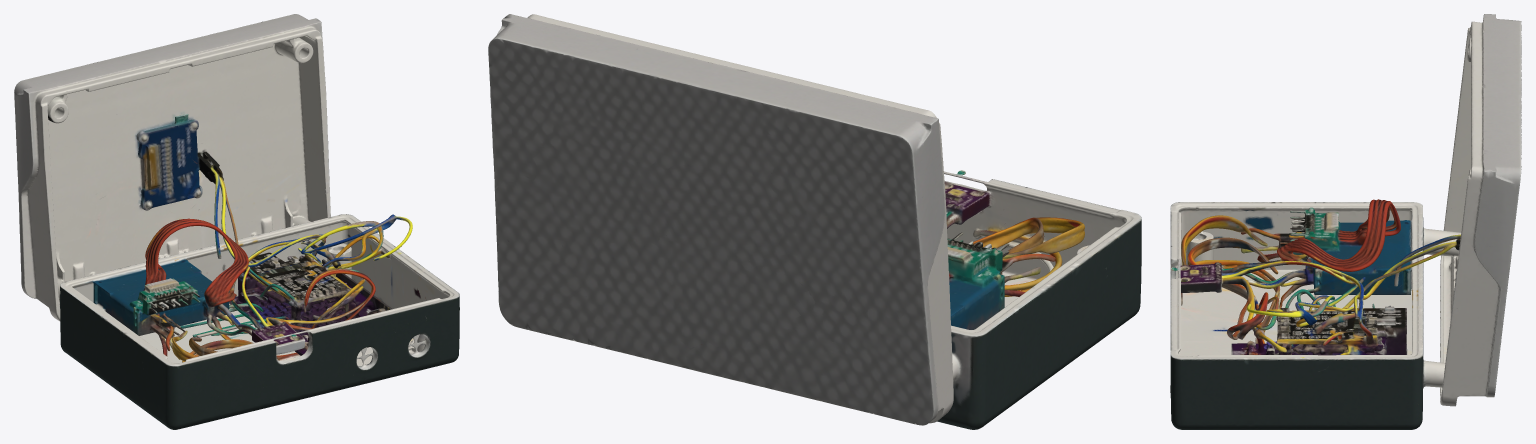
The picture shows the model from 3 angles, left to right: view 1: azimuth 30°, elevation 25°; view 2: azimuth 150°, elevation 25°; view 3: azimuth 270°, elevation 25°; orthographic projection. The views are drawn at different scales.
Bounding box in the file's own units: 1.9 × 1.45 × 1.76.
1 material, 1 textured.
